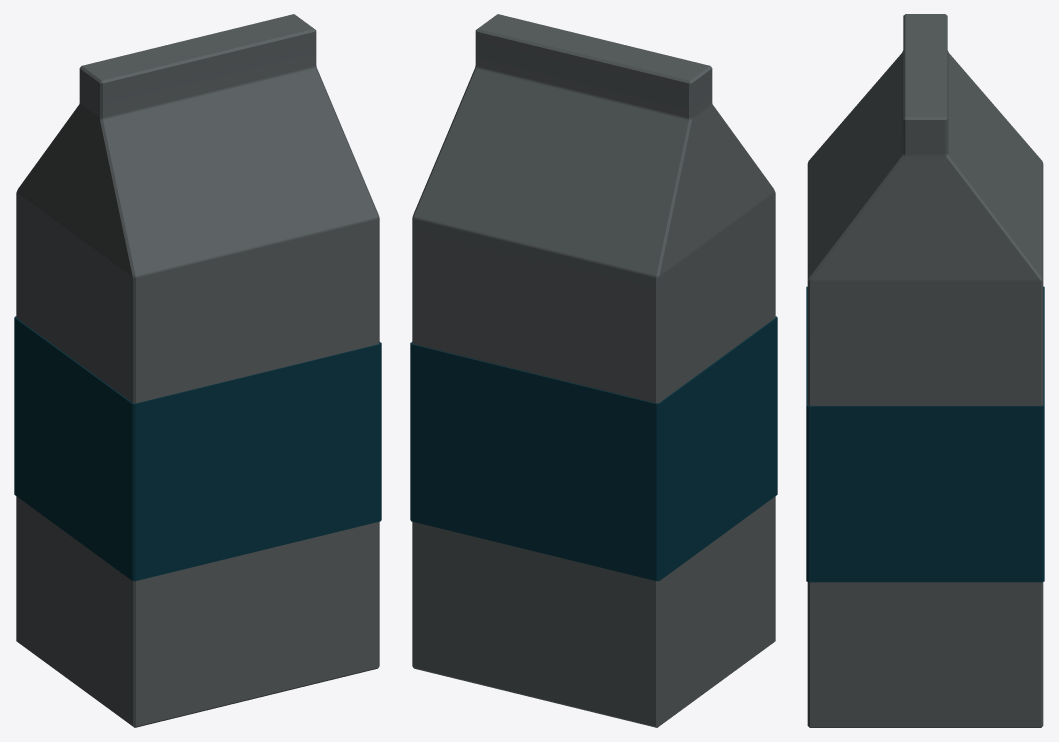
The model's file is SM_Dinette_Milk.fbx.
3 renders of one model, left to right at view 1: azimuth 30°, elevation 25°; view 2: azimuth 150°, elevation 25°; view 3: azimuth 270°, elevation 25°, orthographic.
Parts seen in each view (by area): view 1: BrickMilk:pCube1; view 2: BrickMilk:pCube1; view 3: BrickMilk:pCube1.
Boxes of the visible parts, x1,y1,x2,y2 form: BrickMilk:pCube1: [14, 14, 381, 727]; BrickMilk:pCube1: [410, 14, 777, 727]; BrickMilk:pCube1: [806, 14, 1044, 727].
Bounding box in the file's own units: 8.06 × 18.78 × 6.71.
